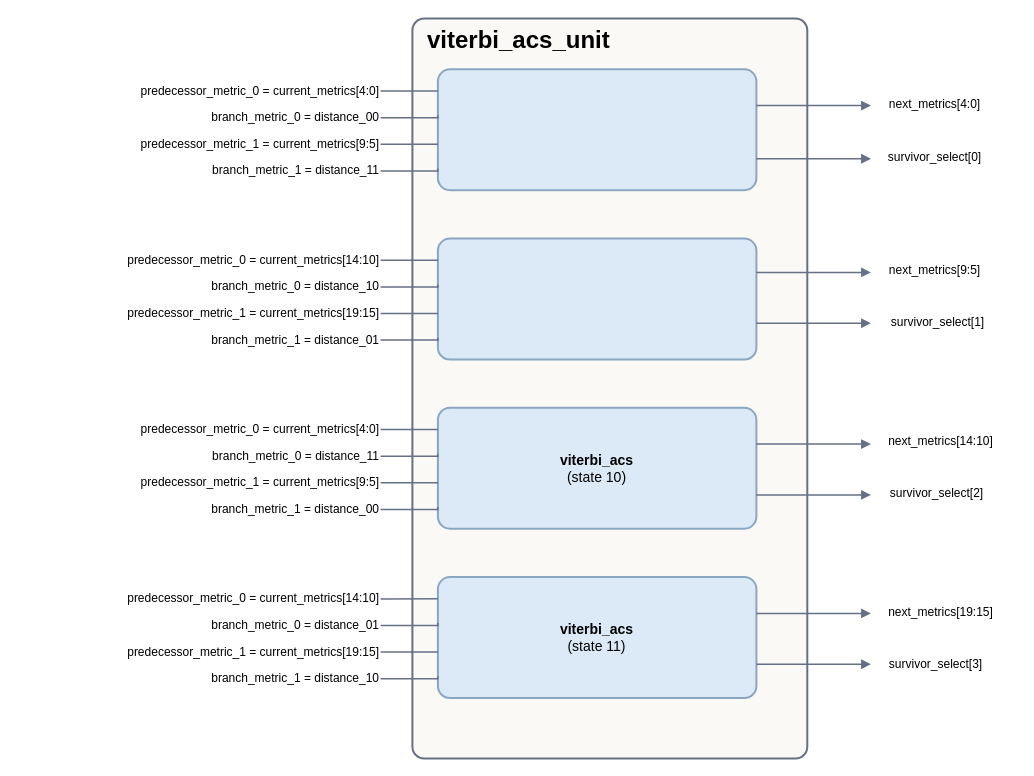
This 1034x776 diagram has some shape labels left out. The centre of each missing label's shape, as x and y in pixels:
viterbi_acs (state 00): point 596,129
viterbi_acs (state 01): point 596,298
